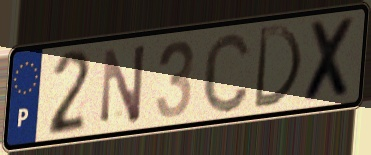2: (46, 48, 93, 139)
3: (154, 38, 196, 120)
C: (200, 28, 253, 116)
D: (251, 23, 305, 111)
N: (99, 40, 149, 126)
X: (301, 14, 359, 105)
